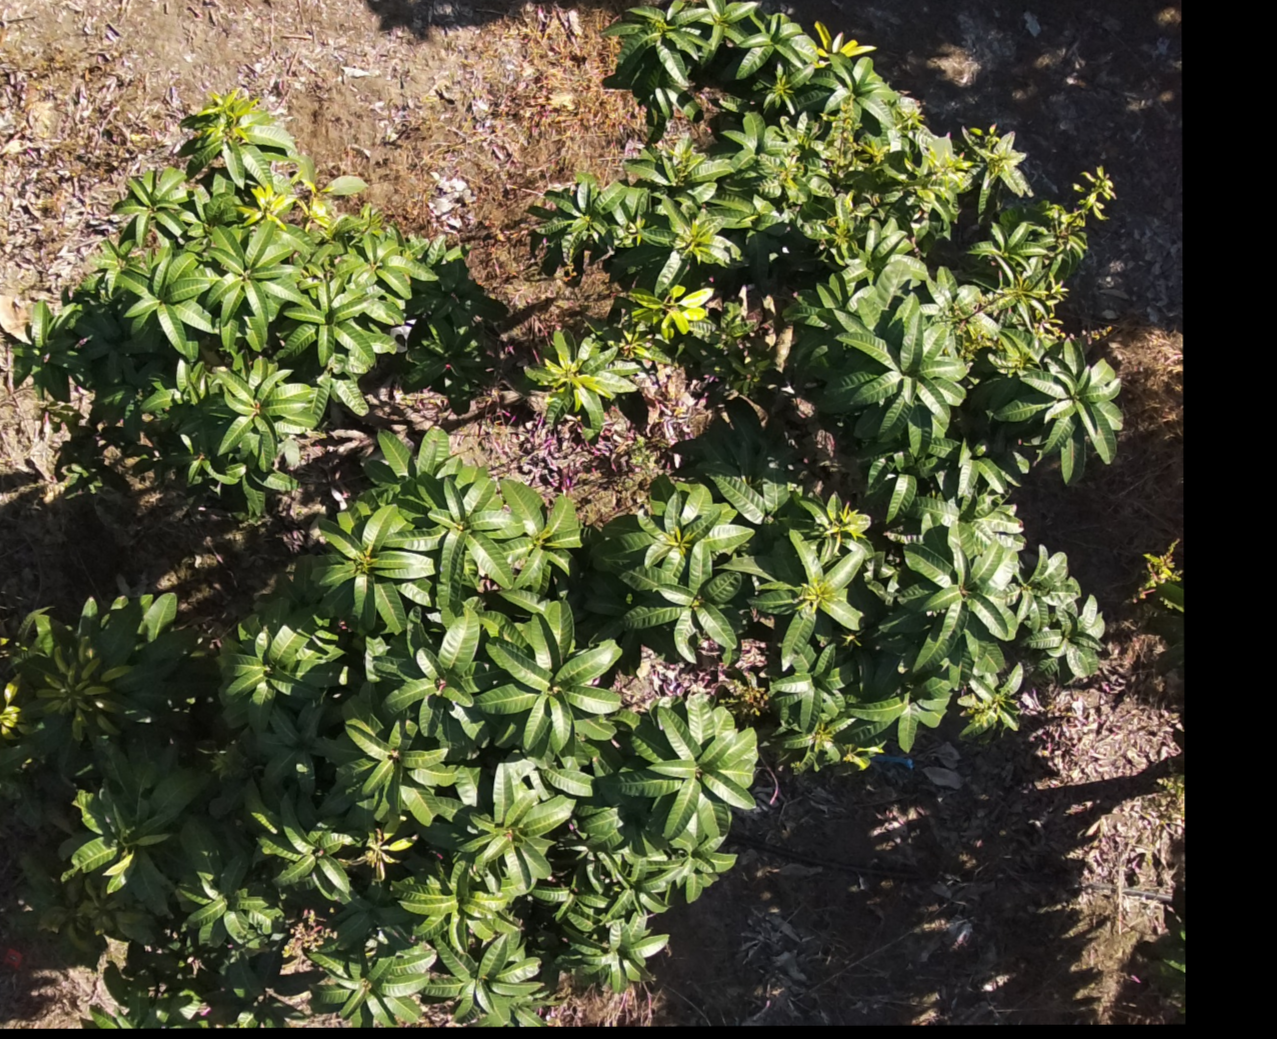flowers: (755, 91, 1031, 260), (941, 169, 1113, 371), (1134, 538, 1181, 600), (282, 908, 335, 957)
